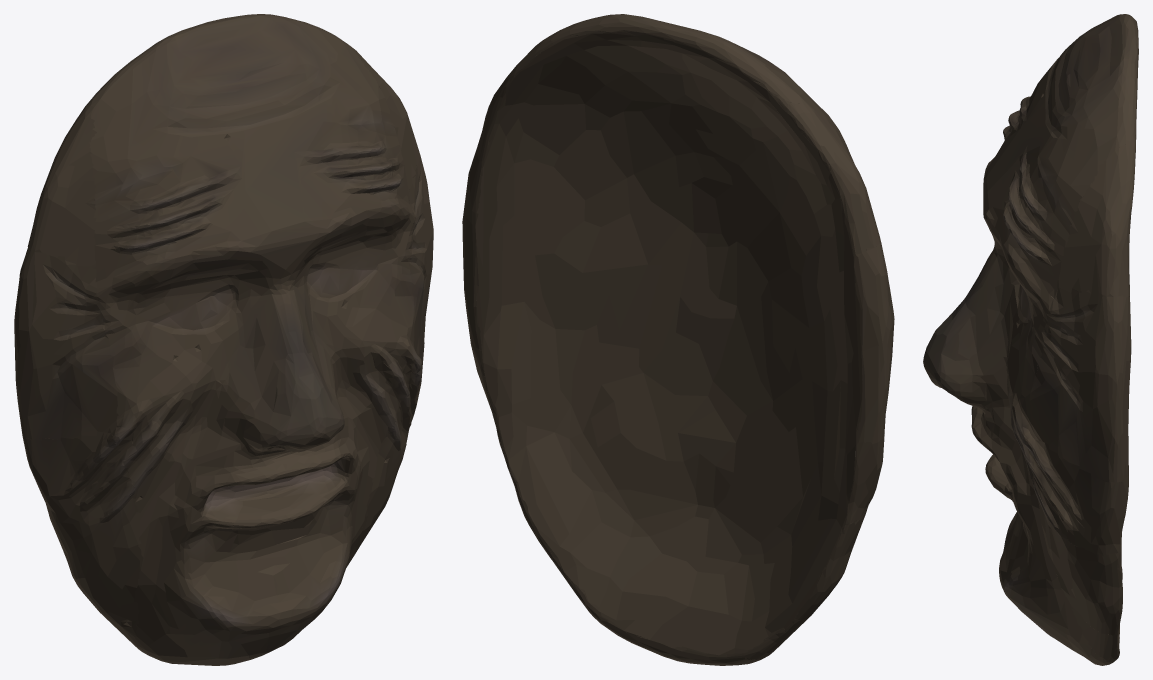
File: Shield_Man.glb
3 views of the same model, side by side, from view 1: azimuth 30°, elevation 25°; view 2: azimuth 150°, elevation 25°; view 3: azimuth 270°, elevation 25° (orthographic). The views are drawn at different scales.
Visible parts, largest first — view 1: Shield_Man; view 2: Shield_Man; view 3: Shield_Man.
Part boxes in pixels (box(x1,y1,x2,y2)): Shield_Man: box(14, 14, 433, 665); Shield_Man: box(462, 14, 894, 665); Shield_Man: box(923, 14, 1138, 665).
Bounding box in the file's own units: 2.05 × 2.97 × 0.95.
